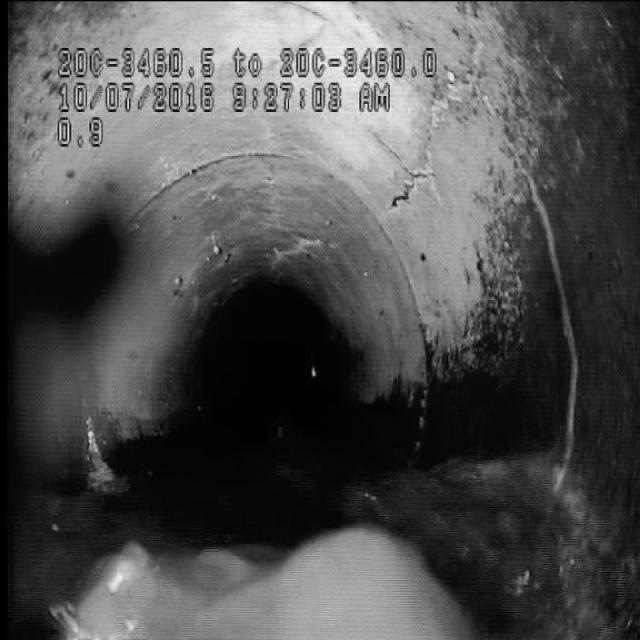Crack: (389, 122, 437, 236)
